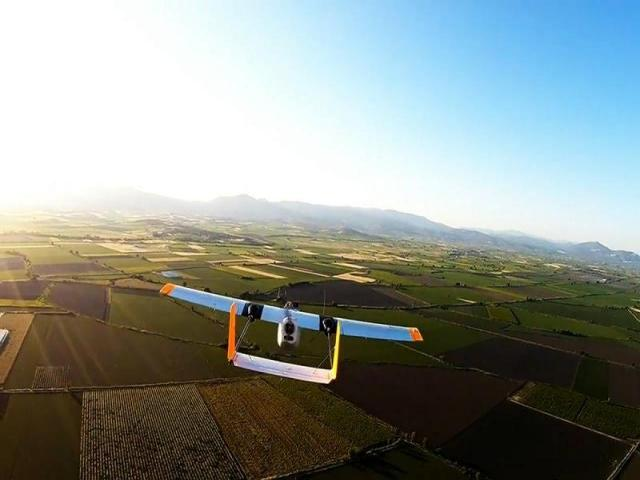hedef: (153, 268, 440, 403)
